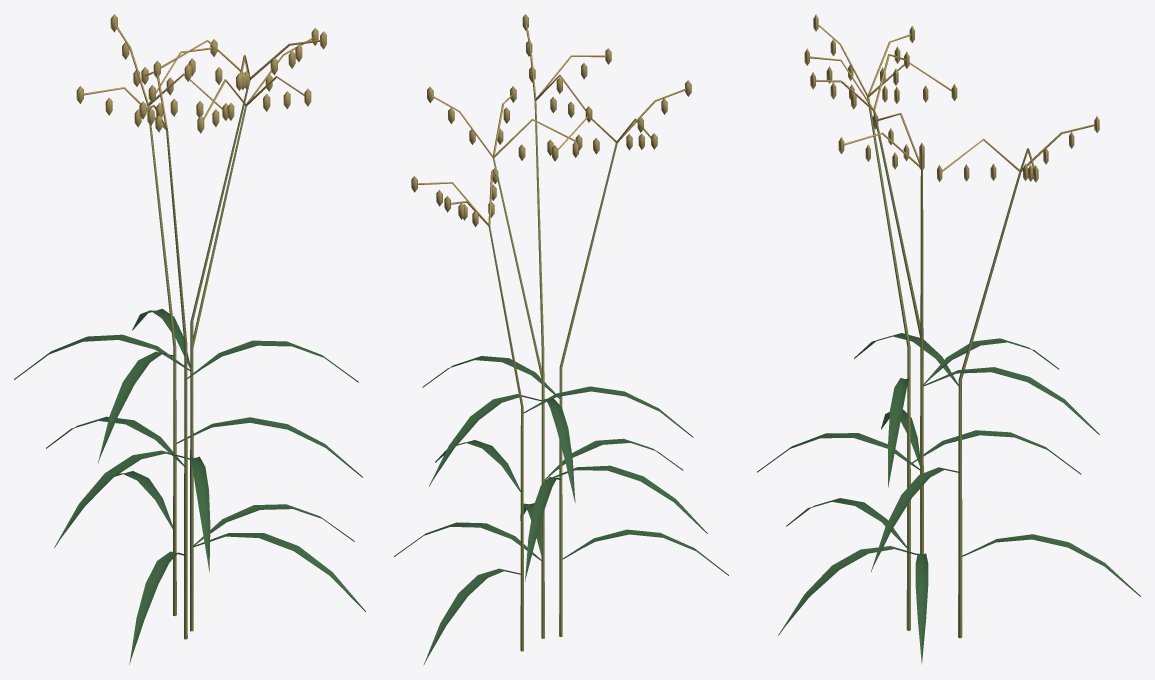
Rendered from arroz.glb.
3 views of the same model, side by side, from view 1: azimuth 30°, elevation 25°; view 2: azimuth 150°, elevation 25°; view 3: azimuth 270°, elevation 25° (orthographic). The views are drawn at different scales.
Visible parts, largest first — view 1: arroz; view 2: arroz; view 3: arroz.
Part boxes in pixels (x1,y1,x2,y2): arroz: (14, 14, 365, 665); arroz: (394, 14, 728, 665); arroz: (757, 14, 1140, 664).
Size of the model in its own units: 0.6515 by 1.2 by 0.6986.
